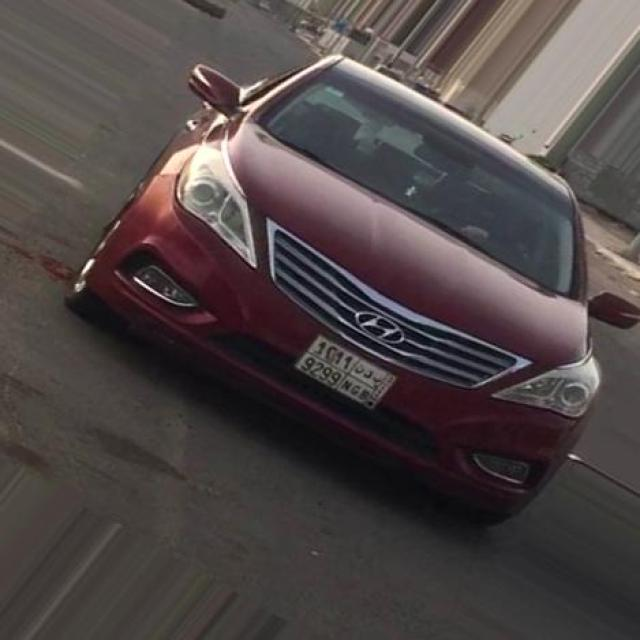Car-plate: (287, 319, 417, 428)
